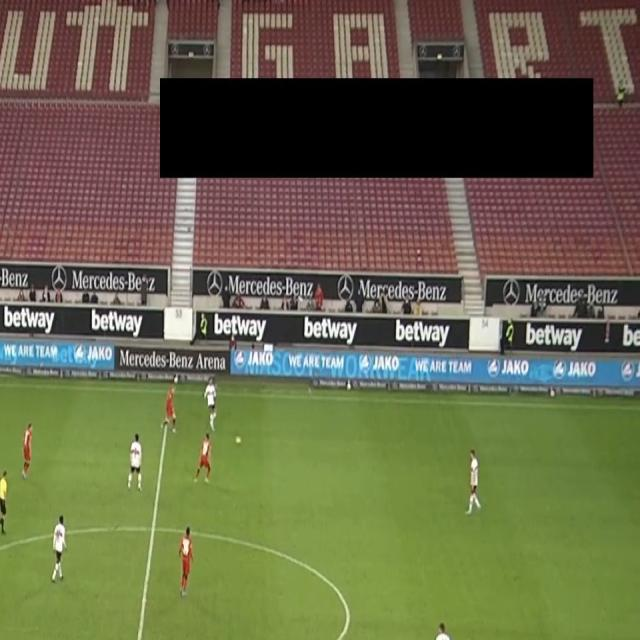ball: (235, 434, 242, 445)
